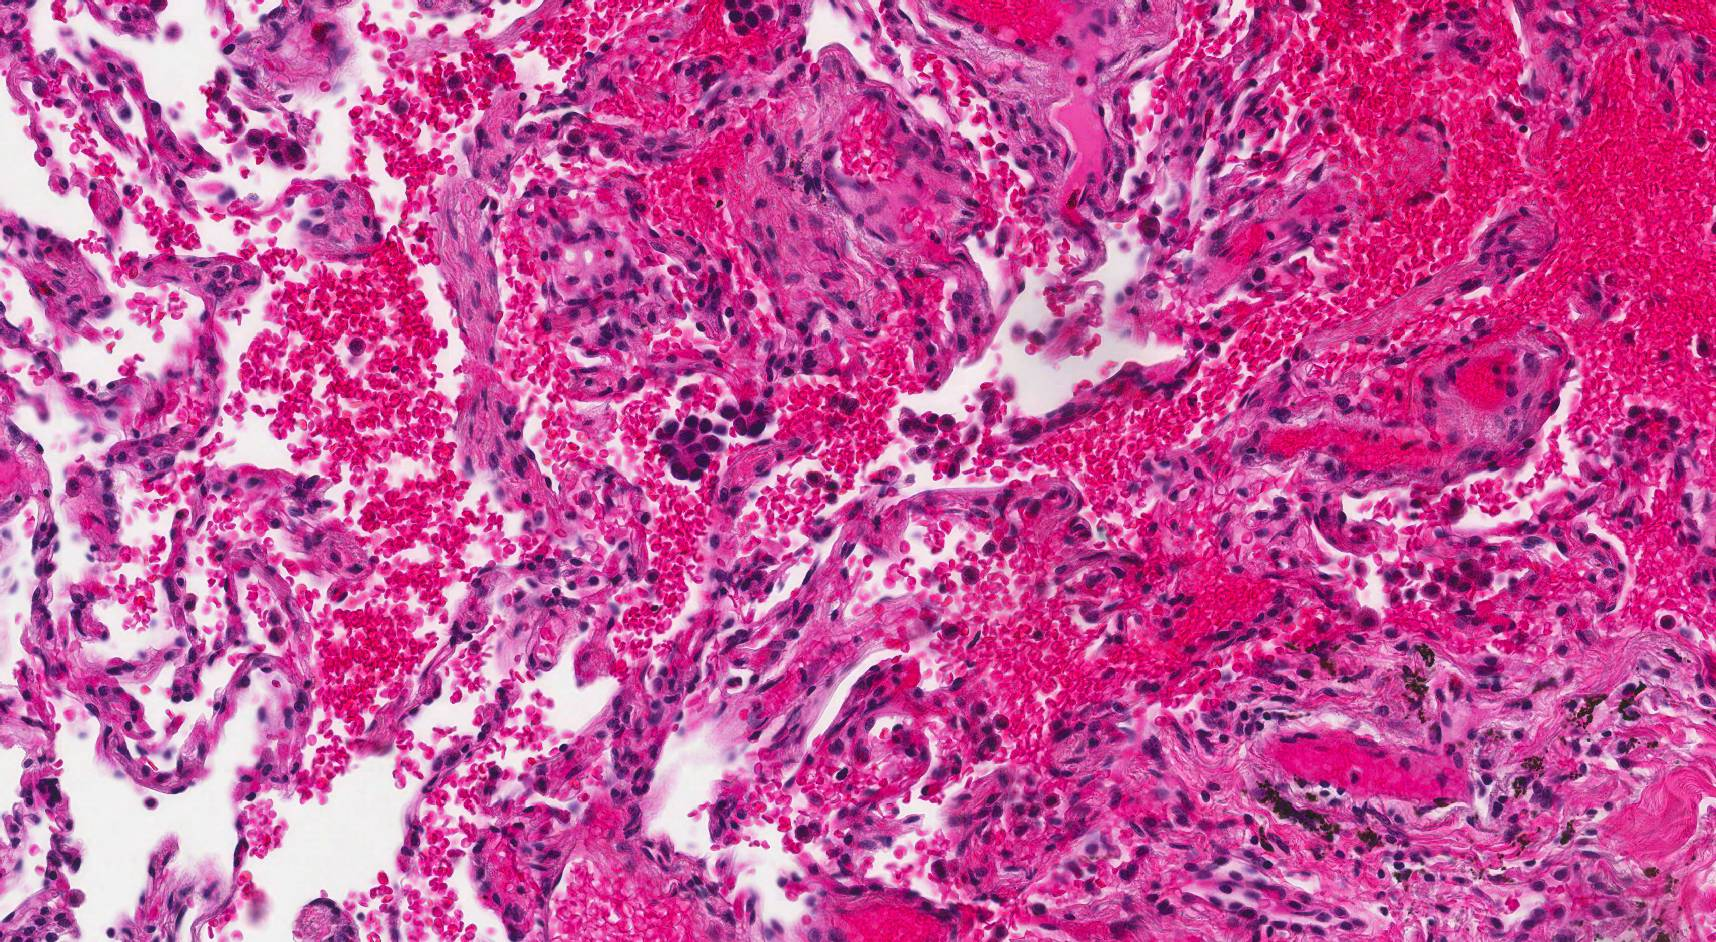stas: (654, 412, 730, 482)
